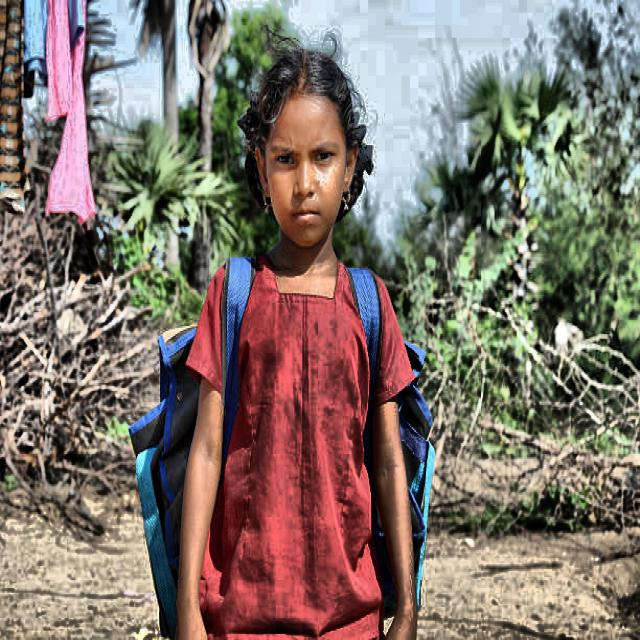Human: (152, 28, 482, 640)
